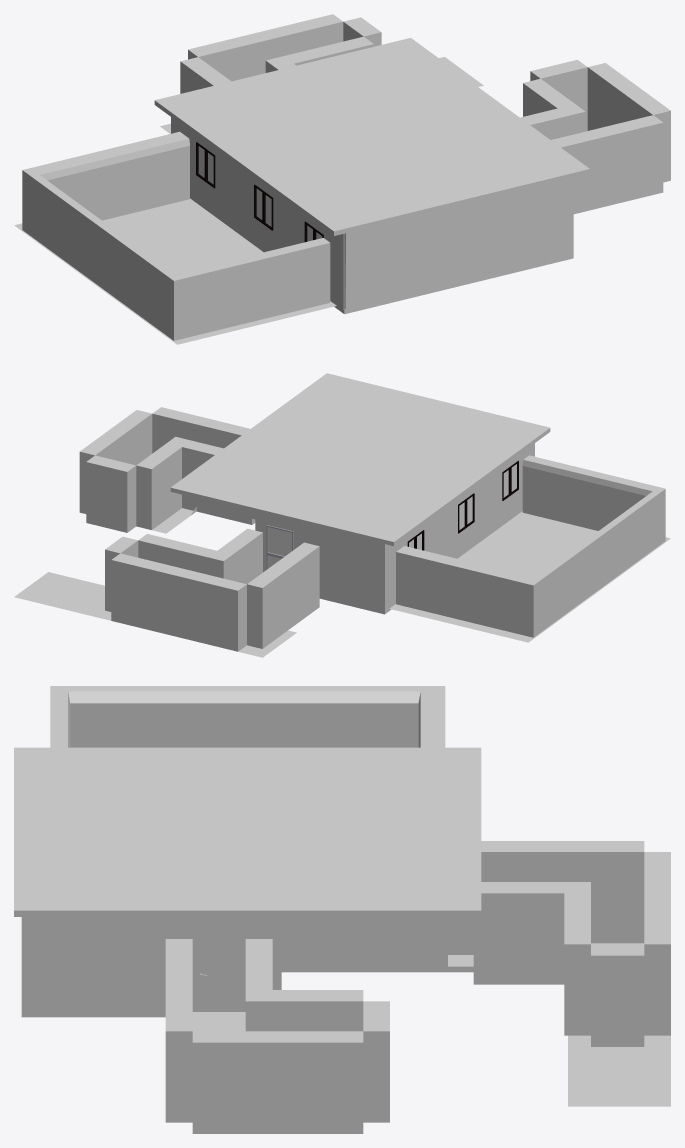
The model's file is exp20 1.fbx.
3 views of the same model, one above another, from view 1: azimuth 30°, elevation 25°; view 2: azimuth 150°, elevation 25°; view 3: azimuth 270°, elevation 25° (orthographic). The views are drawn at different scales.
Visible parts, largest first — view 1: soffitta, SiepeXL, Pareti, Prato, Cube, Cube.009, Cube.003, Cube.002, Cube.004, parche, Cube.006, Cube.008 (+2 smaller); view 2: soffitta, SiepeXL, Pareti, Cube.009, Prato, Cube.006, Cube.004, Cube.002, scalette, Cube.003, Cube, Cube.007 (+5 smaller); view 3: soffitta, Pareti, SiepeXL, Cube.003, Cube.006, Cube.007, scalette, Cube.005, Cube, Cube.002, Cube.009, Cube.008 (+6 smaller).
Boxes of the visible parts, x1,y1,x2,y2 form: soffitta: (154,38,589,235); SiepeXL: (22,131,330,340); Pareti: (171,117,573,309); Prato: (14,198,336,344); Cube: (551,115,663,214); Cube.009: (188,14,343,81); Cube.003: (587,63,670,182); Cube.002: (523,78,585,135); Cube.004: (530,59,587,131); parche: (245,238,573,314); Cube.006: (180,57,231,93); Cube.008: (284,36,373,65); soffitta: (170,373,550,546); SiepeXL: (396,455,665,637); Pareti: (249,443,534,610); Cube.009: (111,553,246,651); Prato: (389,511,670,642); Cube.006: (247,542,319,648); Cube.004: (86,455,136,532); Cube.002: (136,436,190,529); scalette: (14,572,296,657); Cube.003: (79,410,152,513); Cube: (152,407,249,453); Cube.007: (208,528,262,583); soffitta: (14,747,481,916); Pareti: (21,917,473,1011); SiepeXL: (50,686,445,747); Cube.003: (192,1031,363,1133); Cube.006: (481,841,644,943); Cube.007: (473,882,590,984); scalette: (568,943,670,1106); Cube.005: (591,944,644,1046); Cube: (165,939,192,1122); Cube.002: (245,990,363,1031); Cube.009: (644,852,670,1035); Cube.008: (564,893,590,1035).
Bounding box in the file's own units: 1929 × 328 × 1523.
36 materials, 35 textured.
